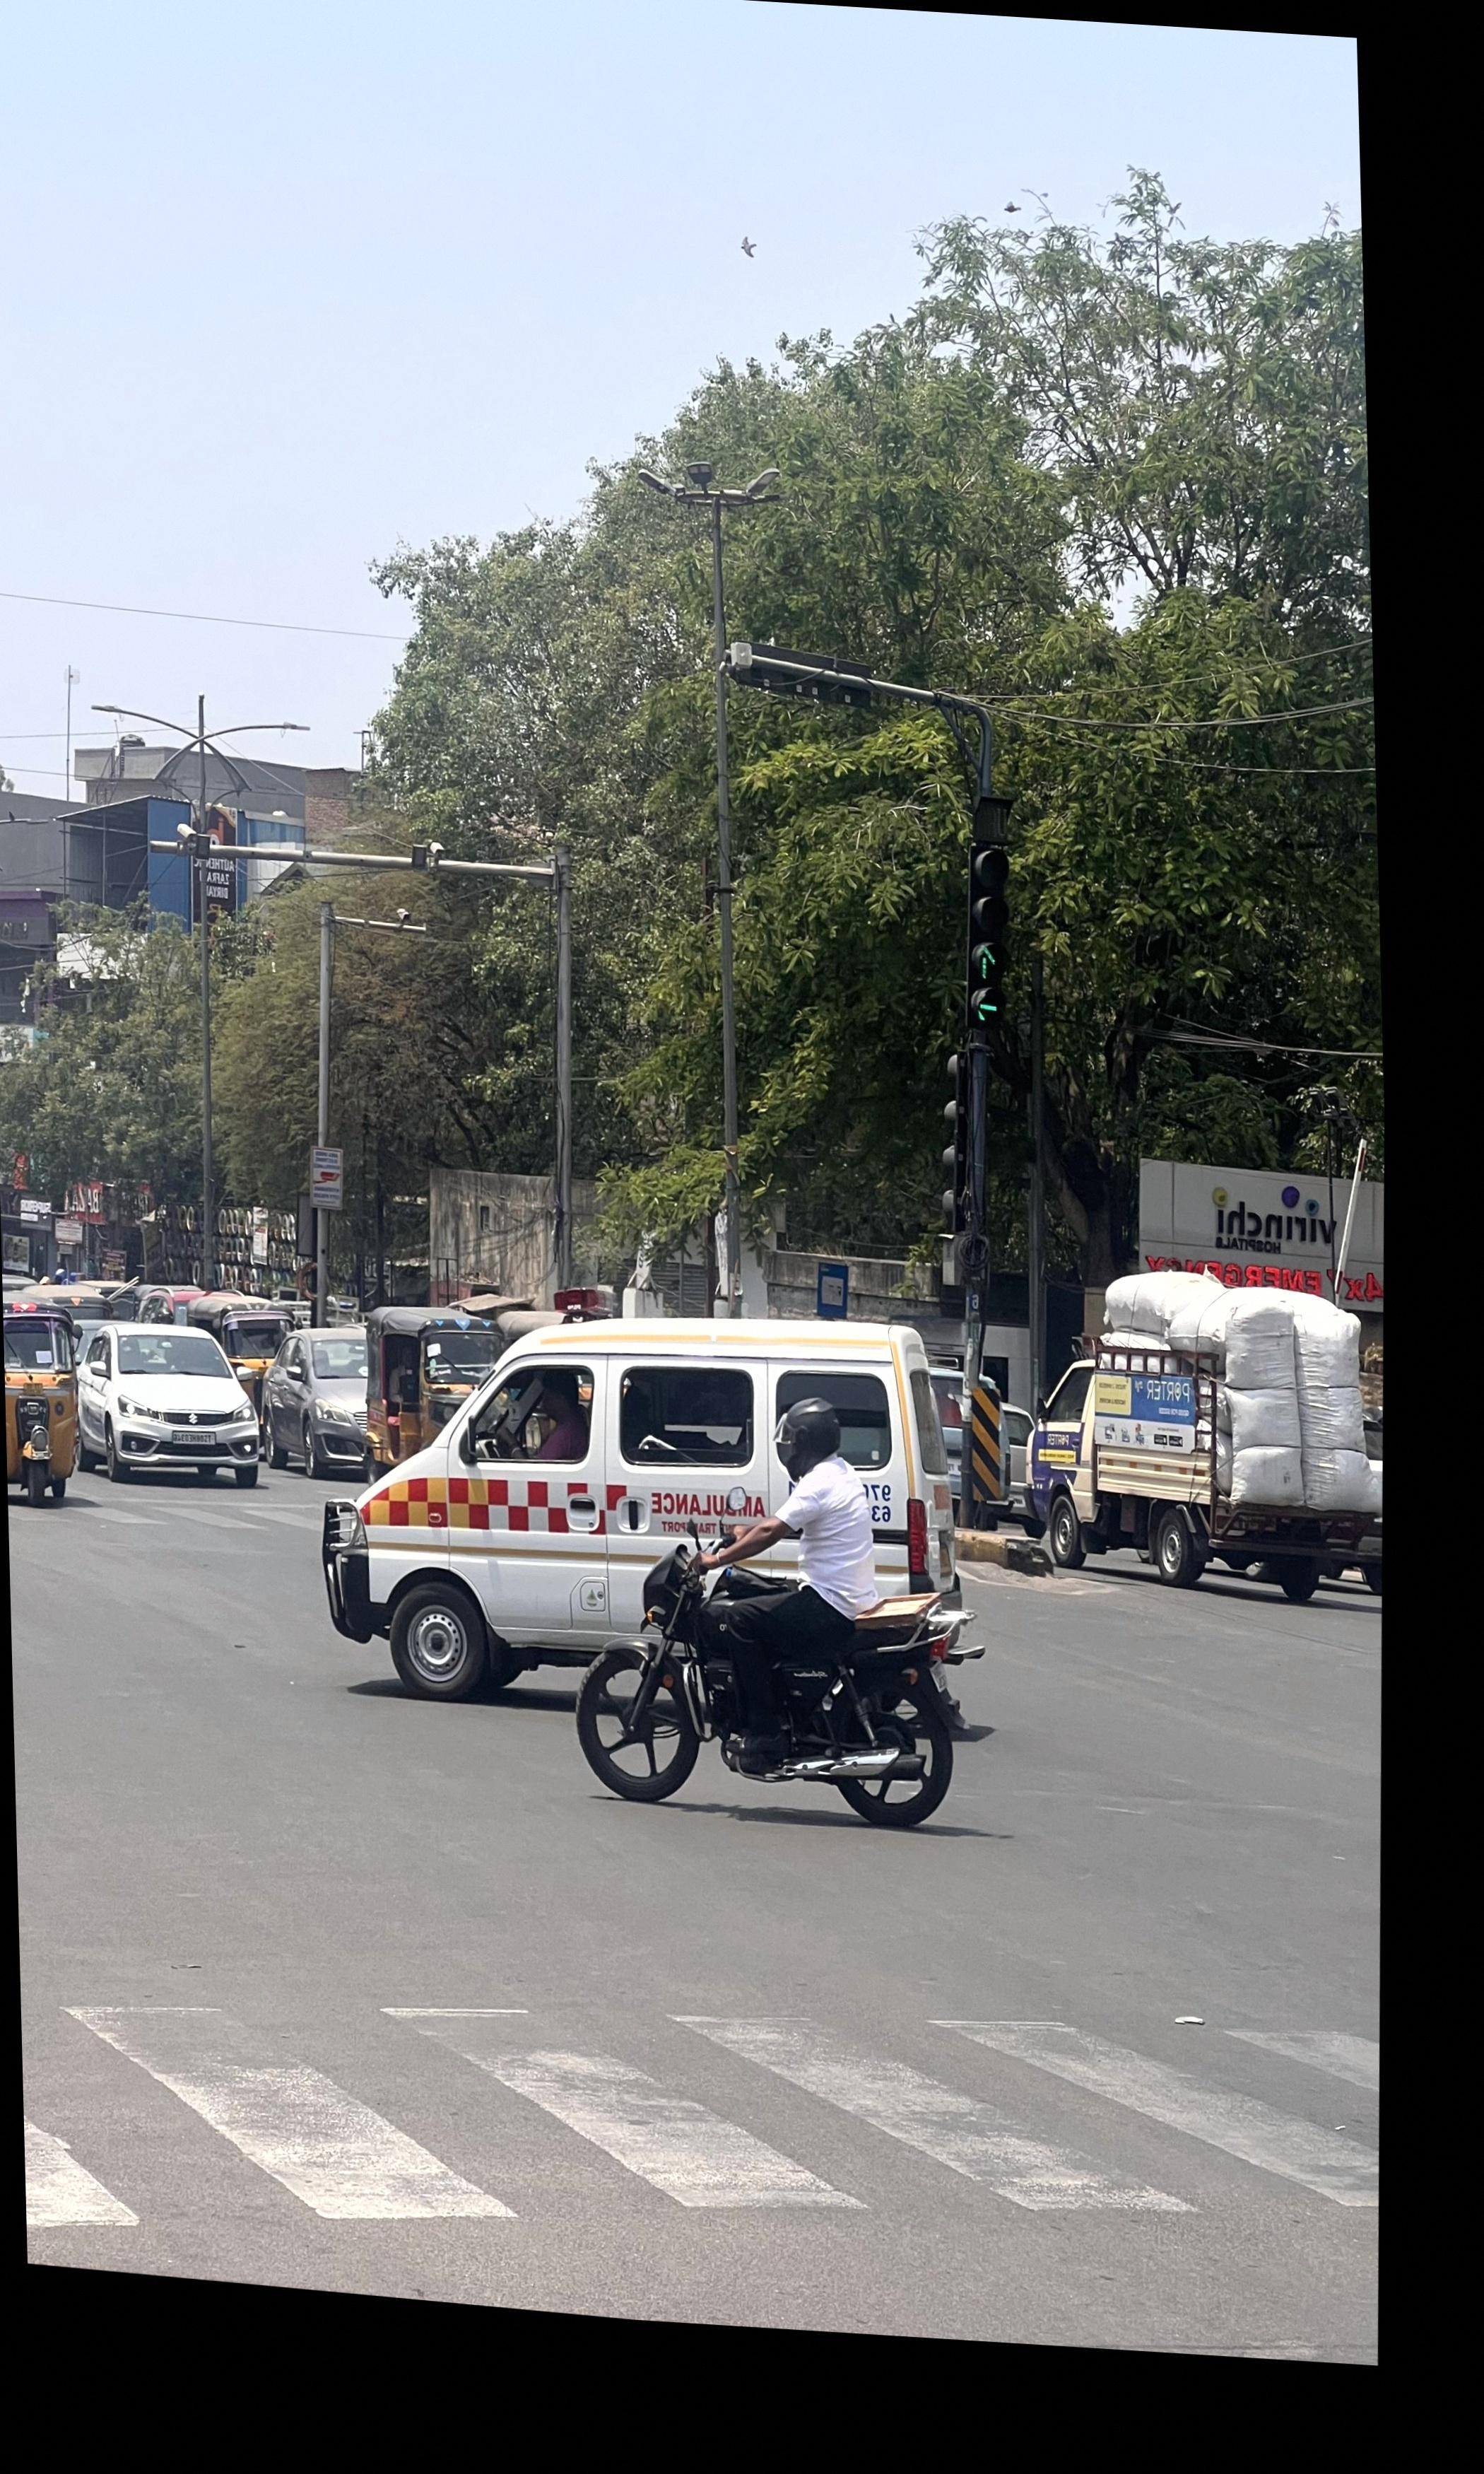ambulance: (322, 1318, 954, 1704)
